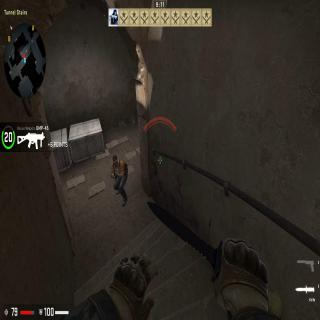T-Body: (111, 154, 129, 206)
T-Head: (112, 155, 118, 167)
